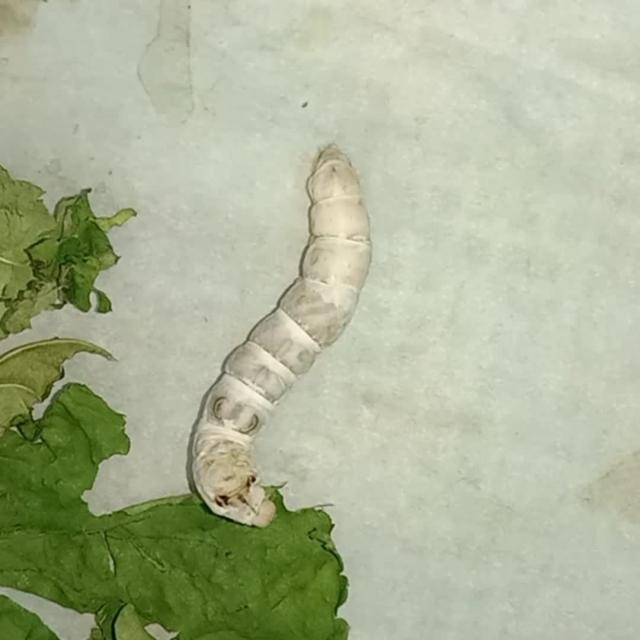Grasserie: (184, 134, 390, 532)
